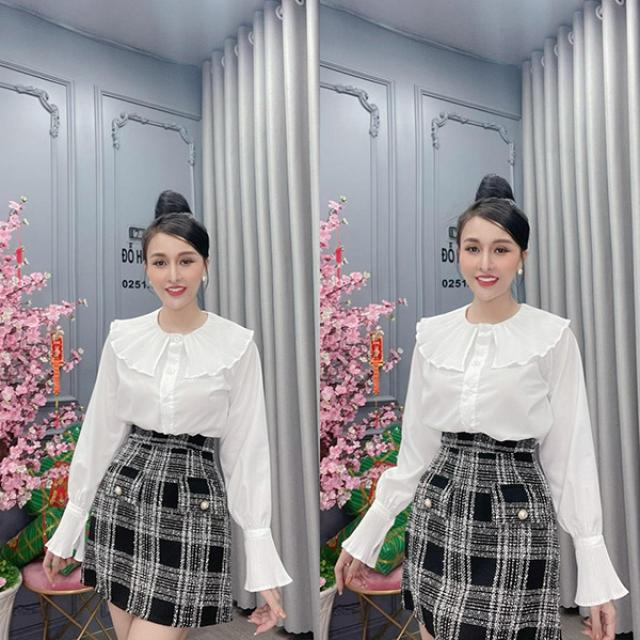clothes: (338, 306, 624, 640), (38, 311, 292, 628)
